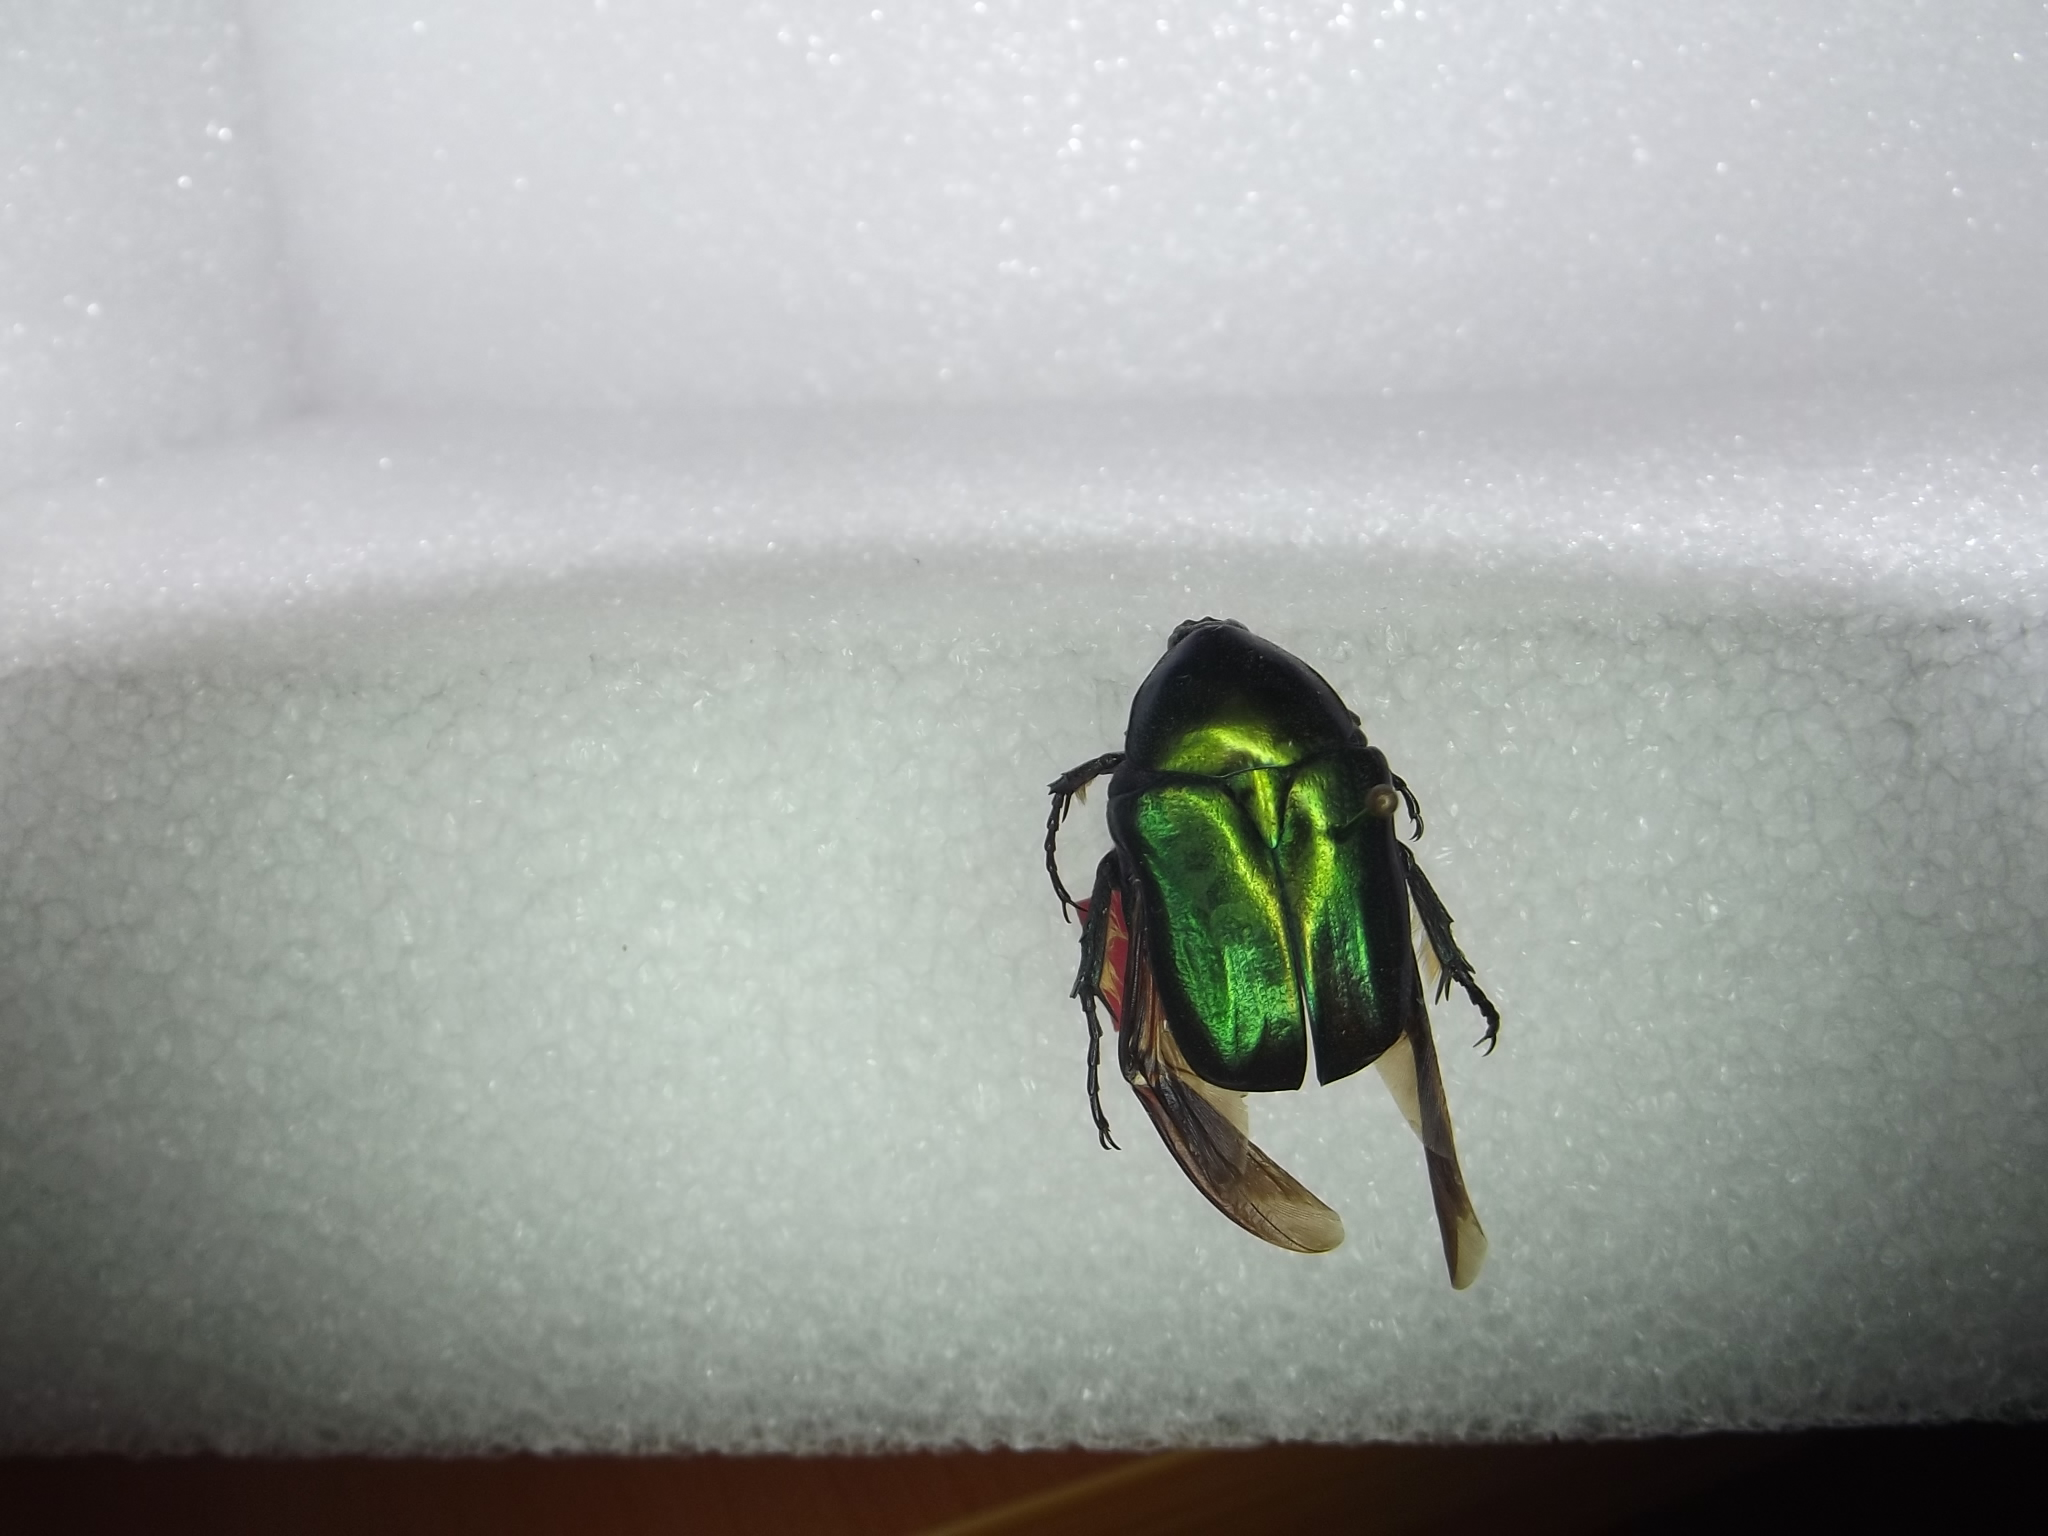Protaetia_besucheti: (1024, 599, 1529, 1305)
